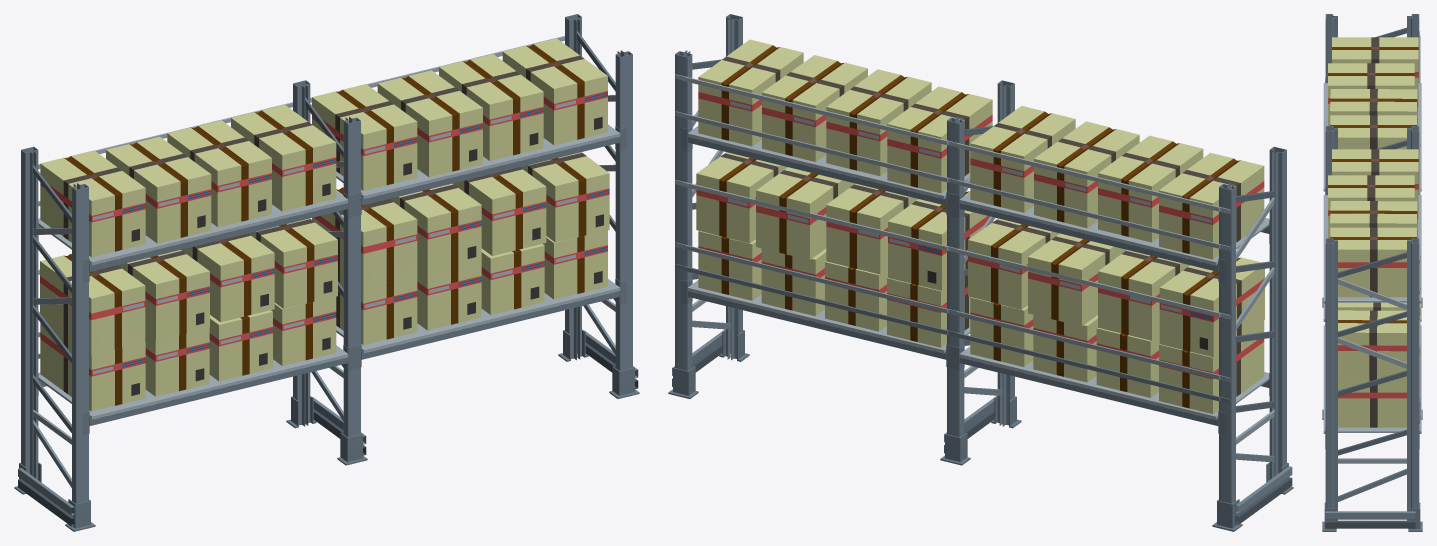
Rendered from SM_ShelfBoxesx2_White_B.fbx.
3 views of the same model, side by side, from view 1: azimuth 30°, elevation 25°; view 2: azimuth 150°, elevation 25°; view 3: azimuth 270°, elevation 25° (orthographic). The views are drawn at different scales.
Visible parts, largest first — view 1: SM_ShelfBoxesx2_White_B; view 2: SM_ShelfBoxesx2_White_B; view 3: SM_ShelfBoxesx2_White_B.
Part boxes in pixels (x1,y1,x2,y2): SM_ShelfBoxesx2_White_B: [14, 14, 639, 531]; SM_ShelfBoxesx2_White_B: [668, 14, 1293, 531]; SM_ShelfBoxesx2_White_B: [1322, 14, 1422, 531].
Size of the model in its own units: 646 by 370 by 118.
